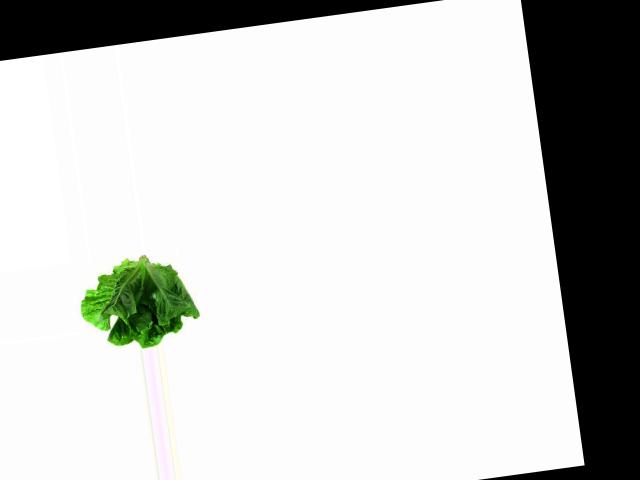lettuce: (76, 253, 204, 355)
